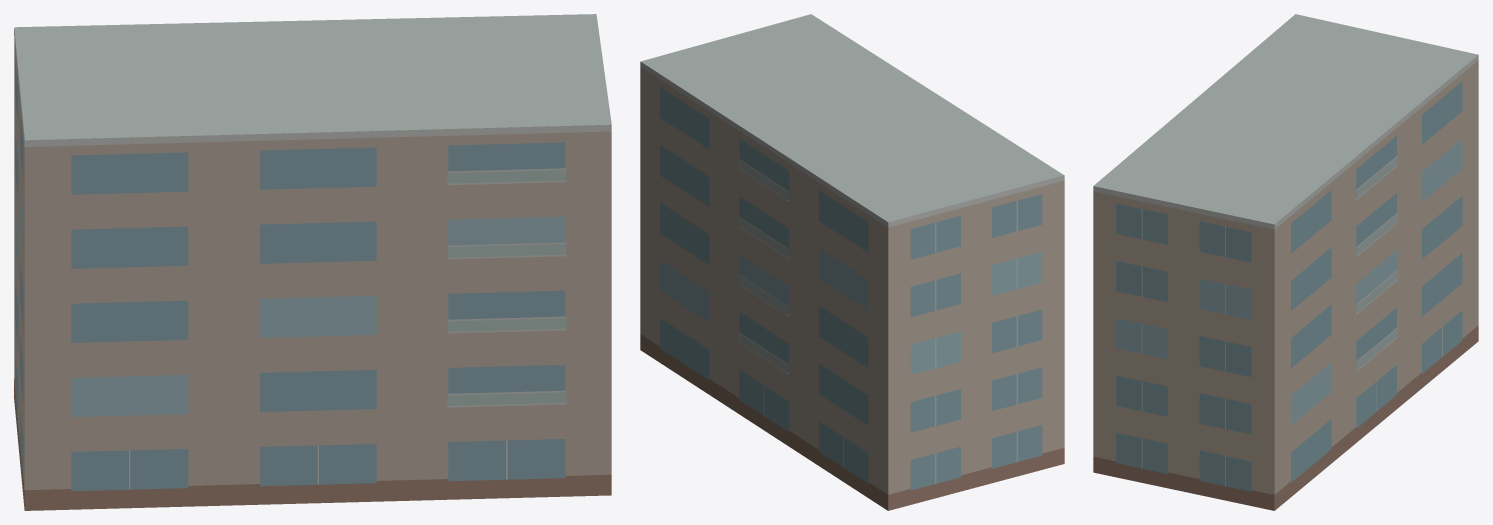
The model's file is survey-upis-32887865.glb.
The picture shows the model from 3 angles, left to right: view 1: azimuth 30°, elevation 25°; view 2: azimuth 150°, elevation 25°; view 3: azimuth 270°, elevation 25°; orthographic projection. The views are drawn at different scales.
Parts seen in each view (by area): view 1: survey-upis-32887865.tmp; view 2: survey-upis-32887865.tmp; view 3: survey-upis-32887865.tmp.
Boxes of the visible parts, left/top/right/bottom form: survey-upis-32887865.tmp: left=14, top=14, right=611, bottom=510; survey-upis-32887865.tmp: left=640, top=14, right=1064, bottom=510; survey-upis-32887865.tmp: left=1093, top=14, right=1478, bottom=510.
Bounding box in the file's own units: 21.13 × 13.4 × 16.35.
